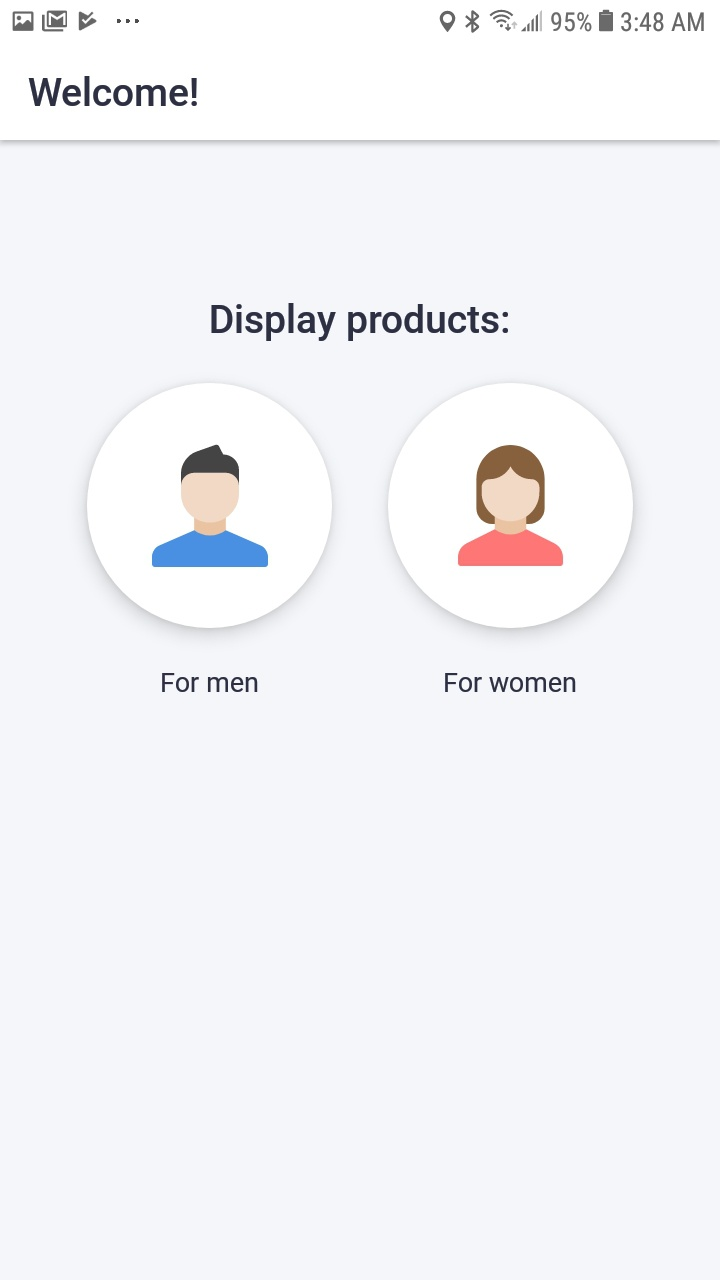Image: (387, 383, 634, 630), (87, 383, 333, 630)
Text: (210, 303, 509, 343), (29, 76, 199, 108), (444, 673, 576, 693), (163, 672, 259, 693)
UpperTaskBar: (1, 1, 720, 35)
